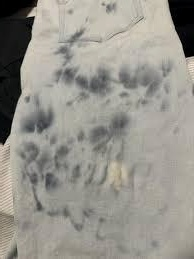ink: (18, 136, 83, 223), (120, 63, 172, 112), (54, 65, 109, 99), (89, 117, 130, 159), (55, 28, 84, 65), (21, 105, 52, 134), (102, 3, 117, 15)
